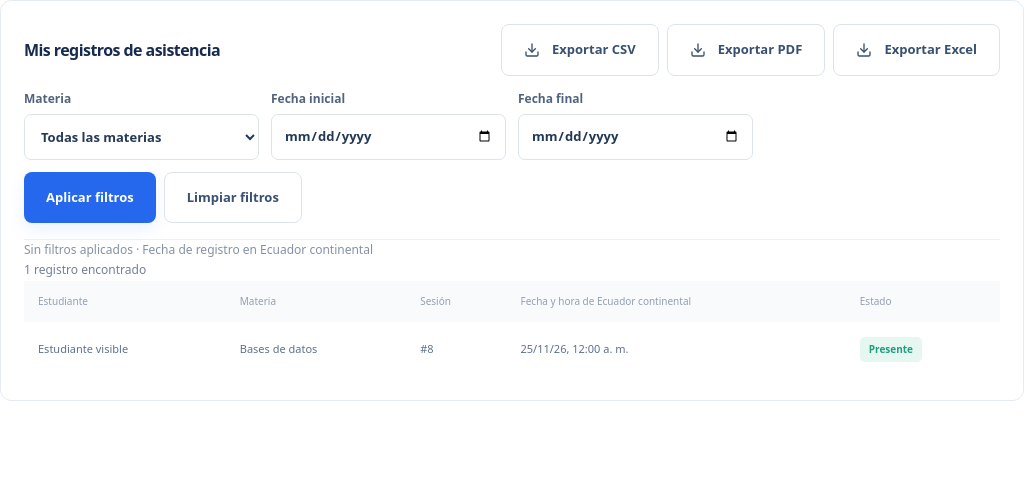
Test: confirms the Excel export, uses applied filters and invalidates the old download
Expected: the text "1 registro encontrado" is shown, [24, 261, 146, 278]
Expected: the button "Exportar CSV" is shown, [501, 24, 659, 76]
Select "IS-302 · Bases de datos" in the dropdown labelled "Materia" at (142, 136), box [24, 114, 259, 160]
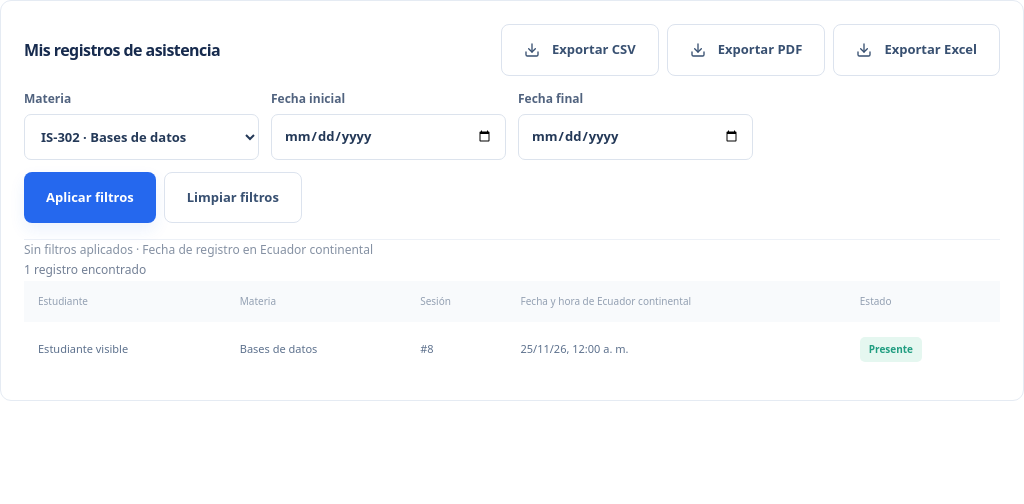
Click the button "Aplicar filtros".
click(90, 197)  # box [24, 172, 156, 223]
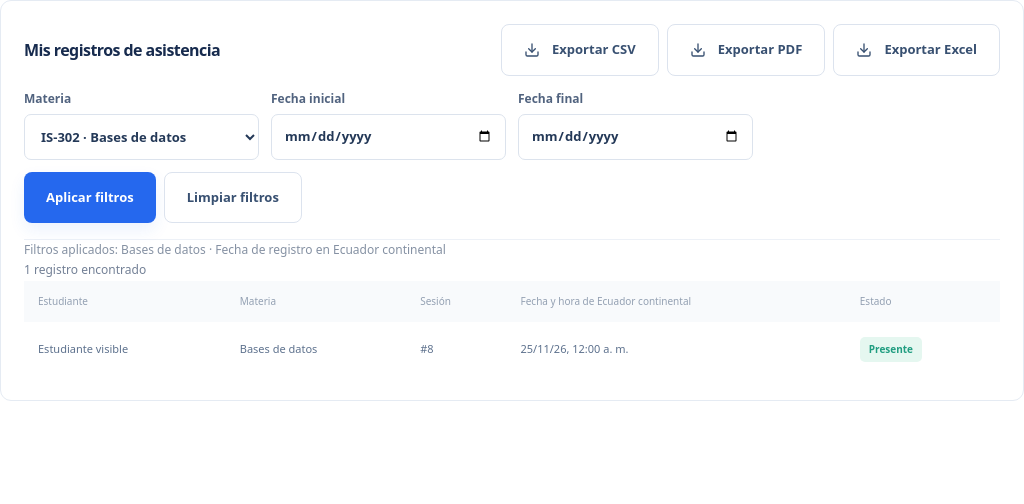
Expected: the text "1 registro encontrado" is shown, [24, 261, 146, 278]
Type "2026-11-25" into the date field labelled "Fecha final".
click(636, 137); type("2026-11-25")  # box [518, 114, 753, 160]
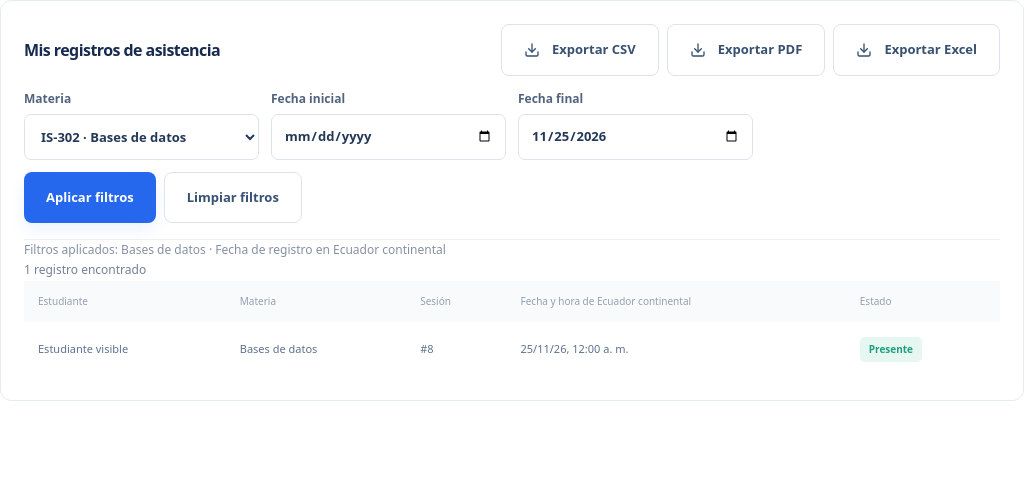
Click the button "Exportar Excel".
click(917, 50)  # box [833, 24, 1000, 76]
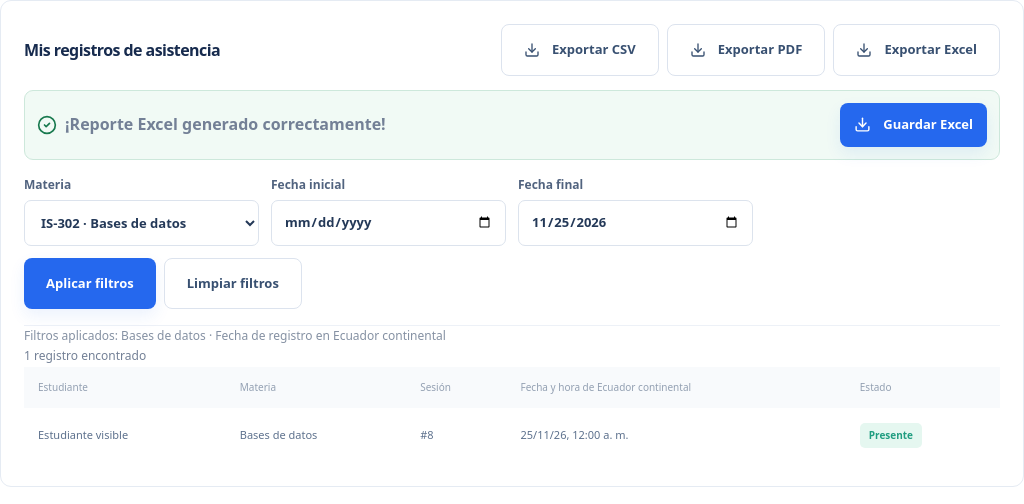
Now the text "¡Reporte Excel generado correctamente!" is shown, box [37, 111, 386, 138]
Click the button "Limpiar filtros".
click(233, 283)  # box [164, 258, 302, 309]
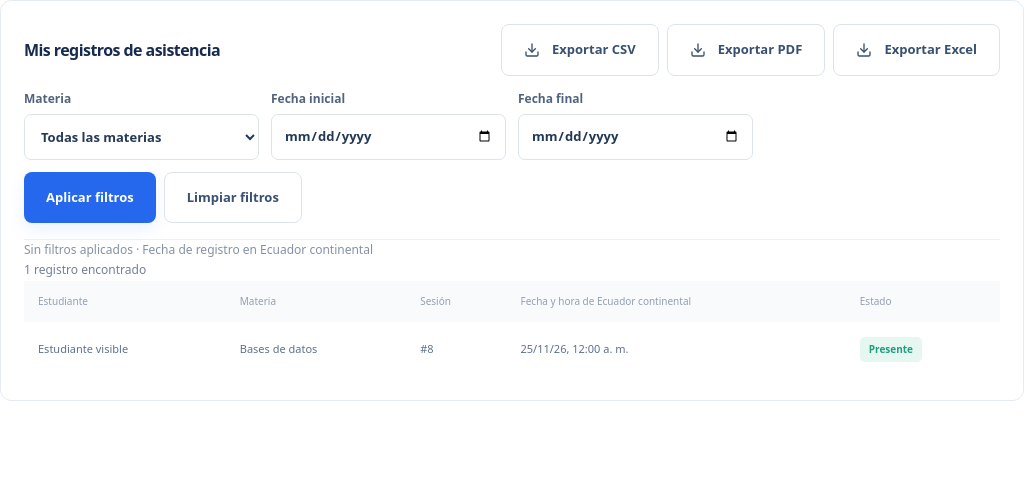
Now the link "Guardar Excel" is gone
